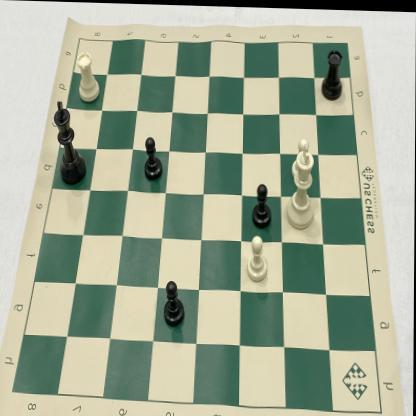black-king: (51, 98, 89, 190)
black-pawn: (161, 270, 188, 332), (140, 130, 166, 186), (248, 178, 274, 230)
black-rook: (318, 40, 350, 102)
white-king: (281, 139, 326, 232)
white-pawn: (244, 230, 275, 284), (289, 133, 317, 184)
white-rook: (73, 48, 103, 110)
